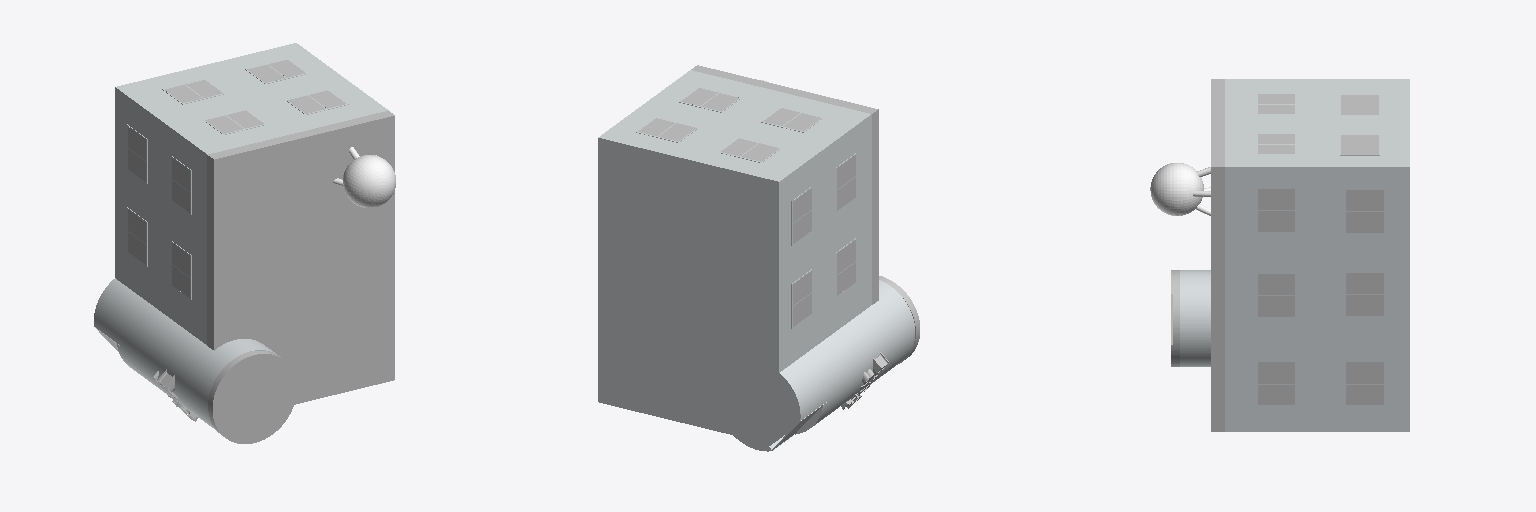
File: tinker 8.obj
The picture shows the model from 3 angles: view 1: azimuth 30°, elevation 25°; view 2: azimuth 150°, elevation 25°; view 3: azimuth 270°, elevation 25°; orthographic projection.
Visible parts, largest first — view 1: obj_6, obj_28, obj_8, obj_29, obj_0, obj_24, obj_25, obj_26, obj_27, obj_19, obj_21, obj_22 (+1 smaller); view 2: obj_28, obj_8, obj_6, obj_26, obj_25, obj_24, obj_27, obj_19, obj_22, obj_20, obj_21; view 3: obj_28, obj_6, obj_8, obj_0, obj_14, obj_15, obj_16, obj_17, obj_18, obj_23, obj_29, obj_19 (+3 smaller).
Boxes of the visible parts, box(x1,y1,x2,y2) form: obj_6: box(207, 111, 394, 404); obj_28: box(115, 43, 388, 344); obj_8: box(94, 278, 280, 430); obj_29: box(208, 351, 295, 443); obj_0: box(343, 155, 395, 207); obj_24: box(171, 156, 191, 214); obj_25: box(127, 124, 147, 183); obj_26: box(127, 207, 147, 266); obj_27: box(171, 241, 191, 299); obj_19: box(286, 90, 348, 114); obj_21: box(162, 79, 224, 104); obj_22: box(245, 59, 307, 83); obj_28: box(598, 70, 871, 443); obj_8: box(717, 280, 914, 451); obj_6: box(691, 65, 878, 304); obj_26: box(791, 269, 812, 328); obj_25: box(791, 187, 812, 245); obj_24: box(836, 153, 856, 212); obj_27: box(836, 238, 856, 297); obj_19: box(679, 87, 741, 112); obj_22: box(636, 117, 698, 142); obj_20: box(761, 107, 823, 132); obj_21: box(719, 138, 780, 162); obj_28: box(1225, 79, 1409, 431); obj_6: box(1211, 79, 1224, 431); obj_8: box(1180, 270, 1210, 366); obj_0: box(1150, 163, 1203, 215); obj_14: box(1344, 361, 1384, 405); obj_15: box(1256, 188, 1296, 232); obj_16: box(1256, 273, 1296, 317); obj_17: box(1344, 189, 1384, 233); obj_18: box(1344, 272, 1384, 316); obj_23: box(1256, 361, 1296, 405); obj_29: box(1171, 270, 1179, 366); obj_19: box(1256, 134, 1296, 154).
Bounding box in the file's own units: 50 × 63.72 × 53.25.